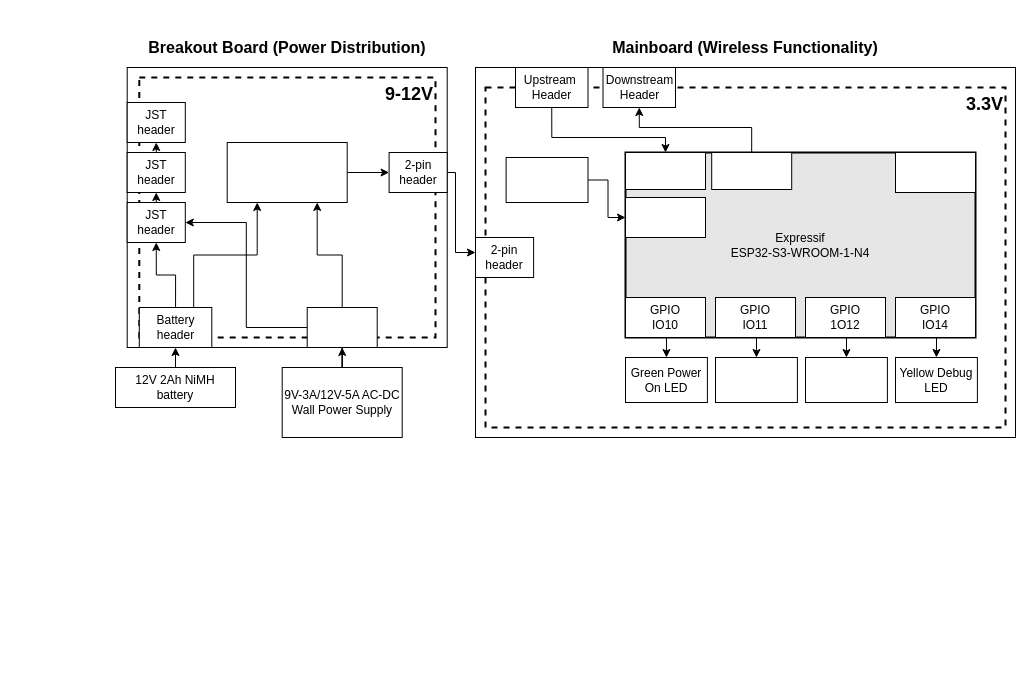
The diagram is 1033 pixels wide and 684 high, and some of its shapes have lost their labels. Here are the shapes that lost their labels. From the top down, the centre of each, then its label:
At point 286,172: "LM2575D2T-3.3R4G Switching 3.3V 1A Voltage Regulator".
At point 546,179: "Debug Button".
At point 665,171: "UART1 IO18".
At point 751,171: "UART1 IO17".
At point 935,172: "RFCOMM BLE server".
At point 665,217: "GPIO IO4".
At point 341,327: "Barrel Jack Adapter".
At point 755,379: "Blue BLE status LED".
At point 845,379: "Red Bus Error LED".
